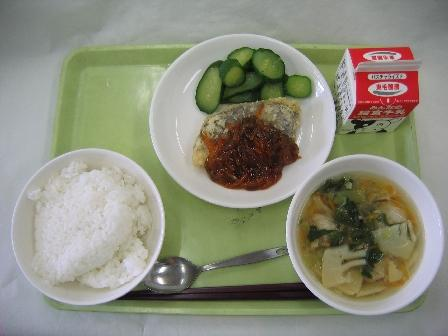Fish: (186, 101, 307, 191)
Milk: (326, 43, 433, 145)
Rice: (5, 151, 171, 305)
Salad: (187, 37, 312, 114)
Soups: (293, 162, 438, 308)
